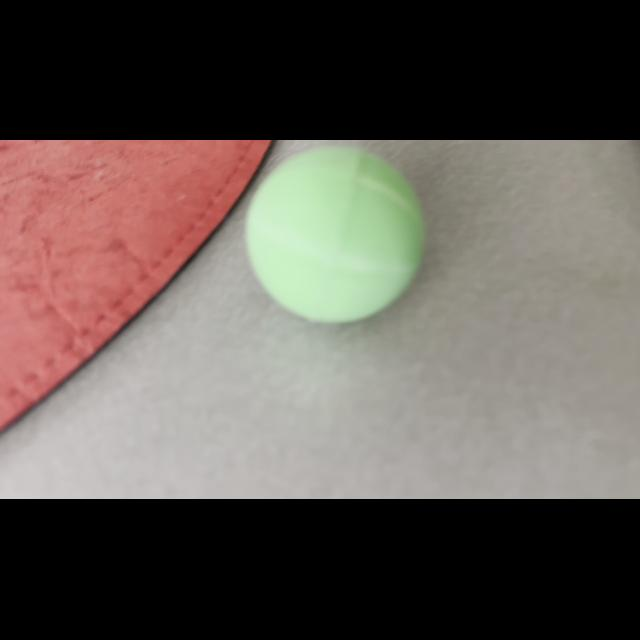objects: (233, 140, 445, 330)
